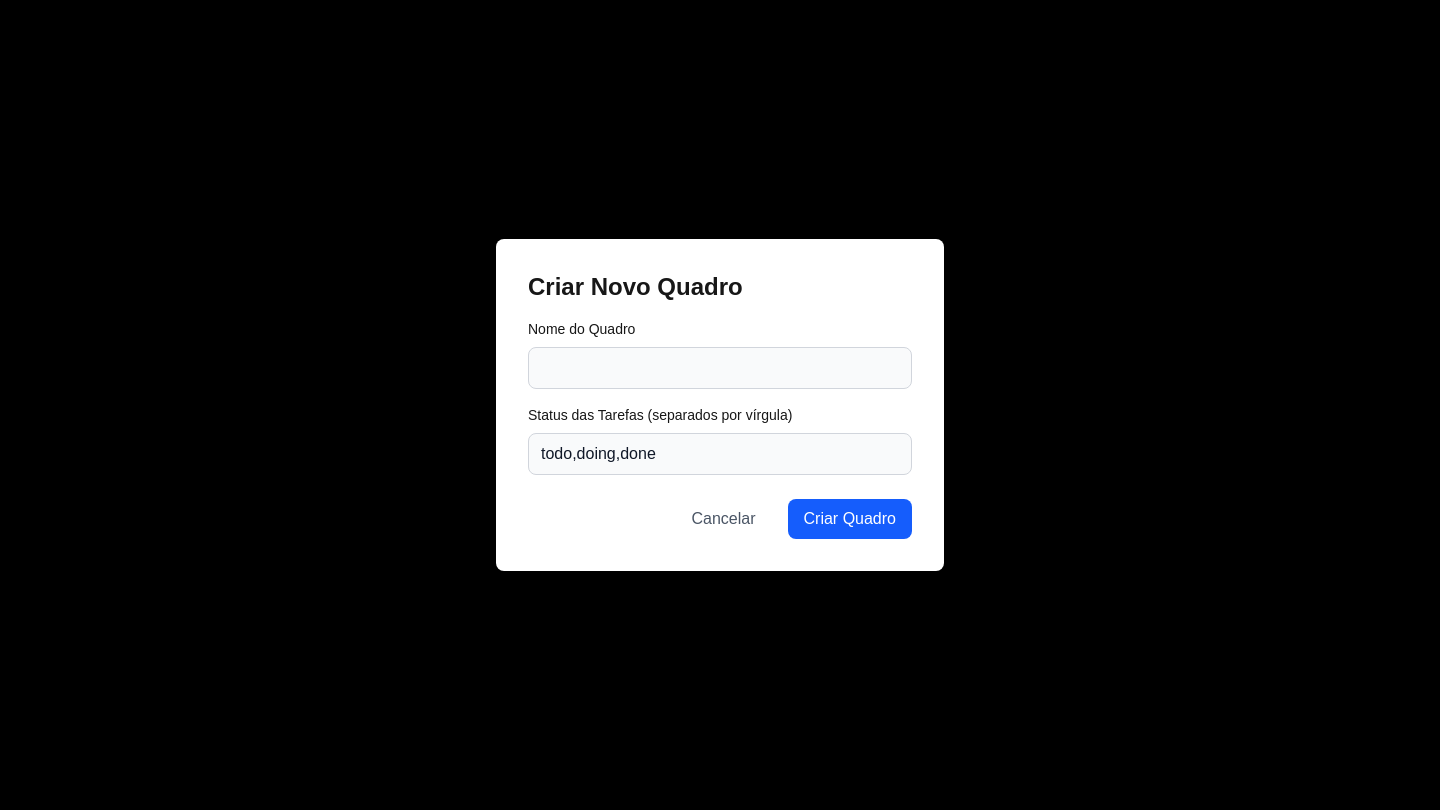
it: CreateBoardModal › deve exibir uma mensagem de erro se a criação do quadro falhar
Step 1. Type "Quadro Repetido" into the field labelled "Nome do Quadro" → (720, 368), box [528,347,912,389]
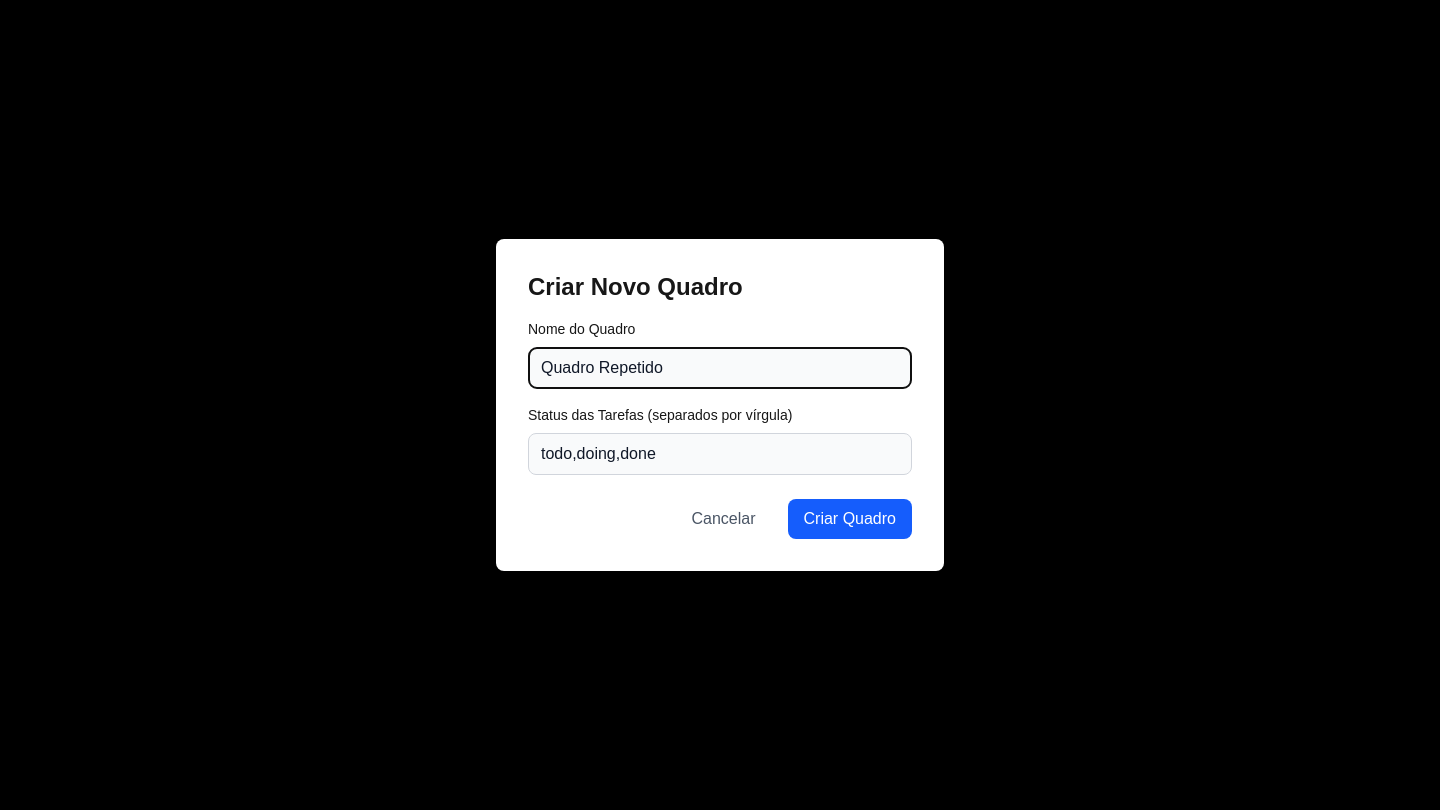
Step 2. Click the button "Criar Quadro" → (850, 519), box [788,499,912,539]
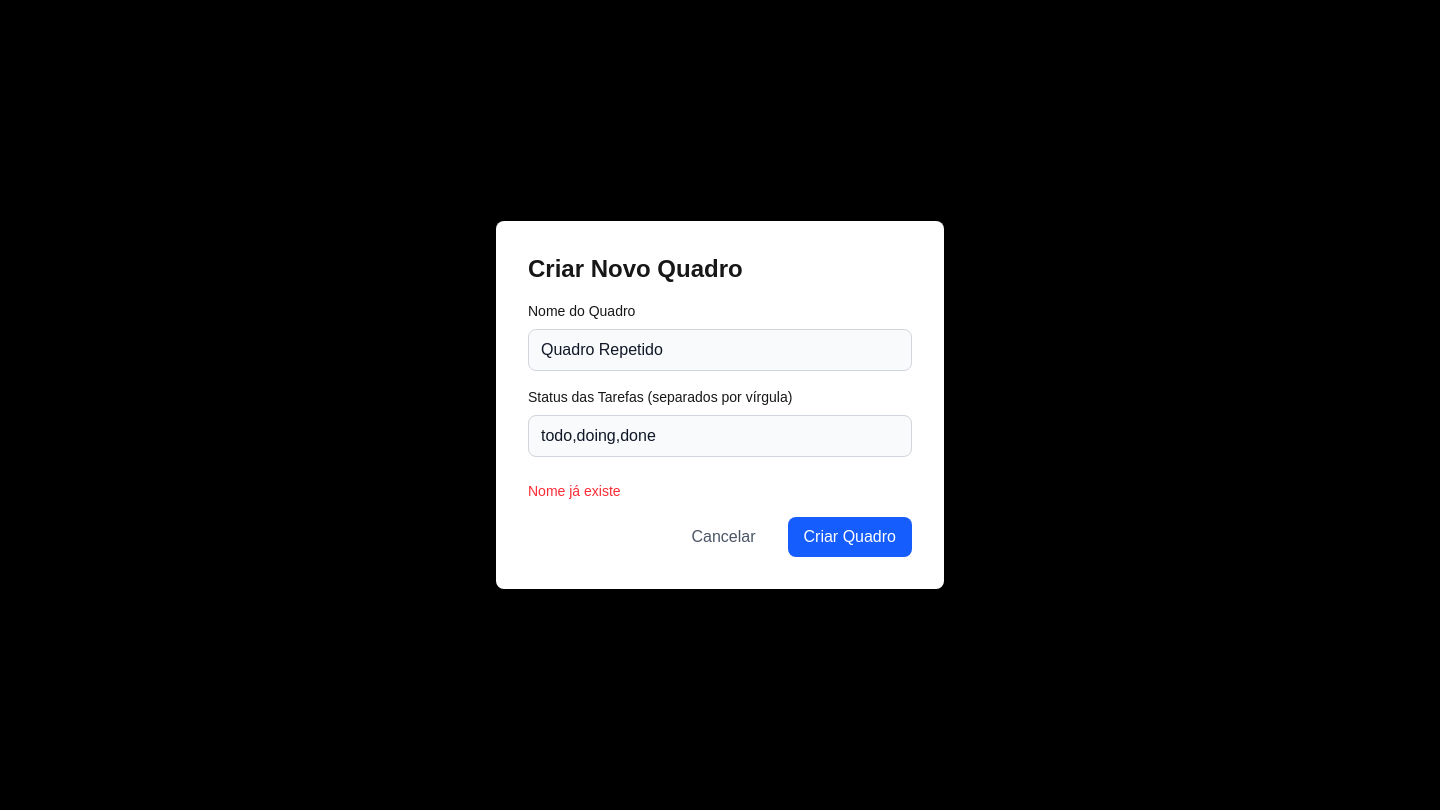
Expected: the text "Nome já existe" is shown, [528,483,621,499]
